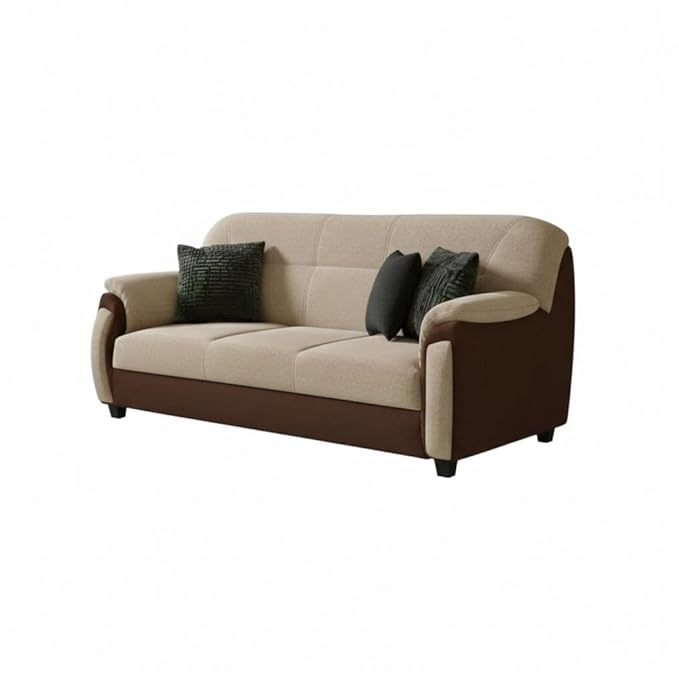3seatersofa: (93, 214, 573, 475)
backrest: (205, 213, 567, 329)
base: (113, 370, 427, 456)
leftarmrest: (420, 249, 573, 458)
leg: (435, 459, 456, 476), (109, 404, 125, 417), (538, 429, 554, 442)
pillow: (177, 241, 262, 321), (406, 247, 478, 335), (365, 250, 420, 339)
rightarmrest: (421, 249, 574, 456), (91, 273, 176, 403)
seat: (113, 323, 420, 409)
